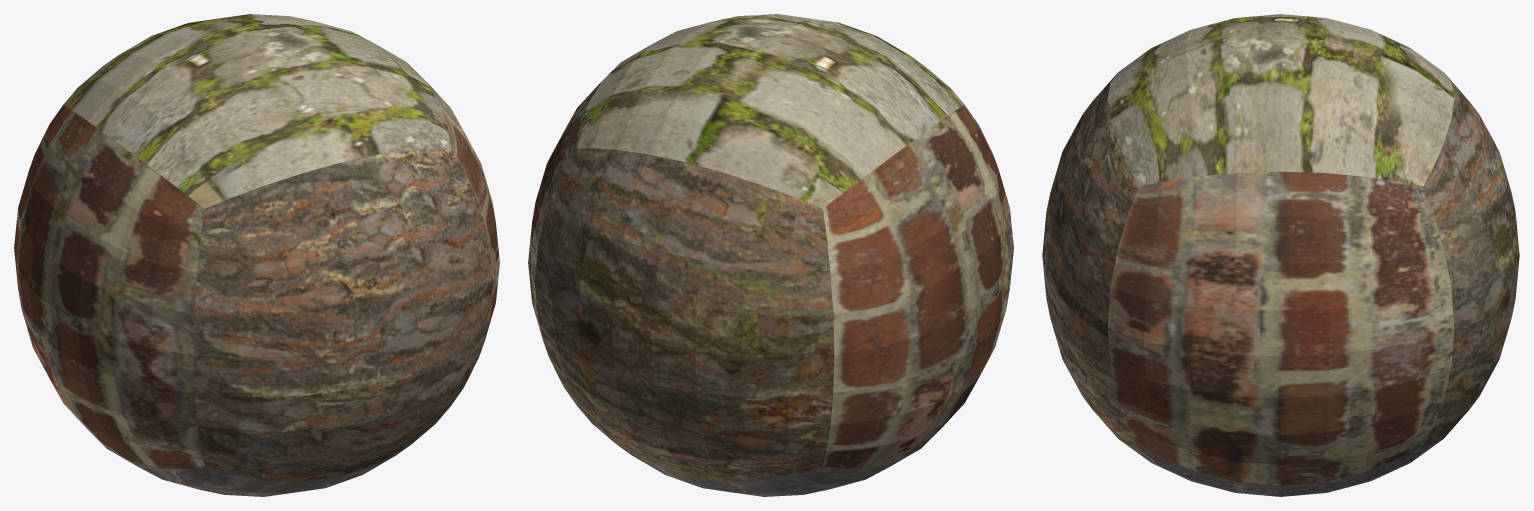
The model's file is tex_ball.obj.
3 views of the same model, side by side, from view 1: azimuth 30°, elevation 25°; view 2: azimuth 150°, elevation 25°; view 3: azimuth 270°, elevation 25° (orthographic).
Parts seen in each view (by area): view 1: B; view 2: B; view 3: B.
Part boxes in pixels (x1,y1,x2,y2): B: (14,14,499,496); B: (528,14,1013,496); B: (1042,14,1519,496).
Bounding box in the file's own units: 3.36 × 3.36 × 3.36.
Materials: 4 (4 with a texture image).
